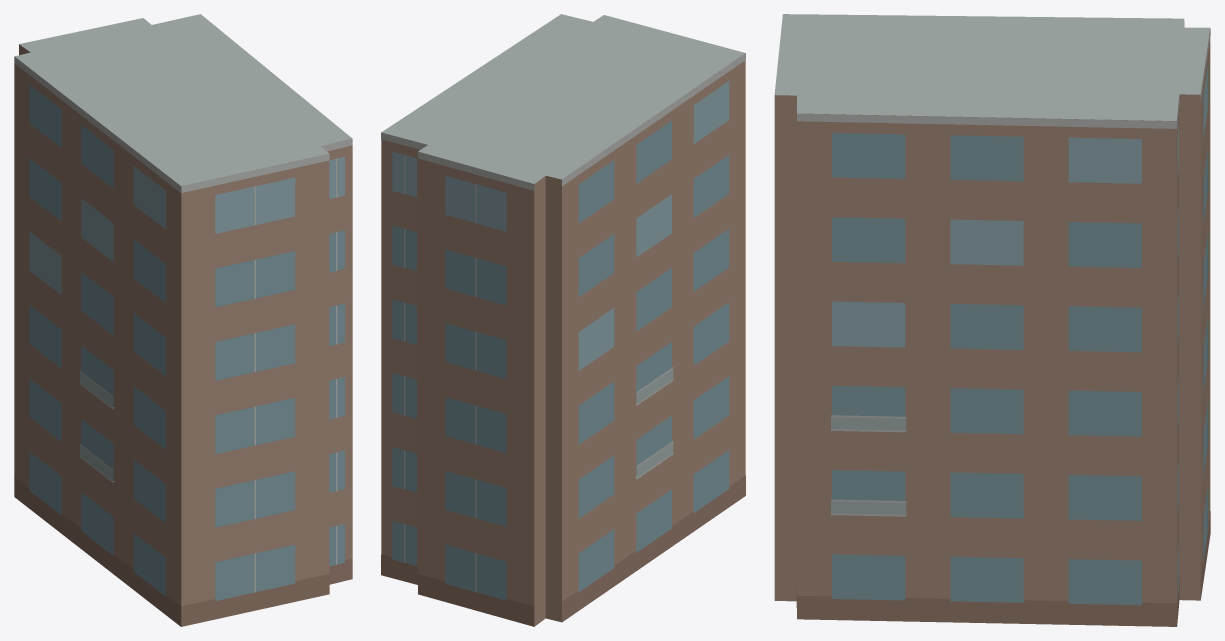
Rendered from survey-upis-32711482.glb.
3 views of the same model, side by side, from view 1: azimuth 30°, elevation 25°; view 2: azimuth 150°, elevation 25°; view 3: azimuth 270°, elevation 25° (orthographic). The views are drawn at different scales.
Parts seen in each view (by area): view 1: survey-upis-32711482.tmp; view 2: survey-upis-32711482.tmp; view 3: survey-upis-32711482.tmp.
Part boxes in pixels (box(x1,y1,x2,y2)): survey-upis-32711482.tmp: box(14, 14, 352, 626); survey-upis-32711482.tmp: box(381, 14, 745, 626); survey-upis-32711482.tmp: box(774, 14, 1210, 626).
Bounding box in the file's own units: 7.14 × 15.7 × 12.28.
